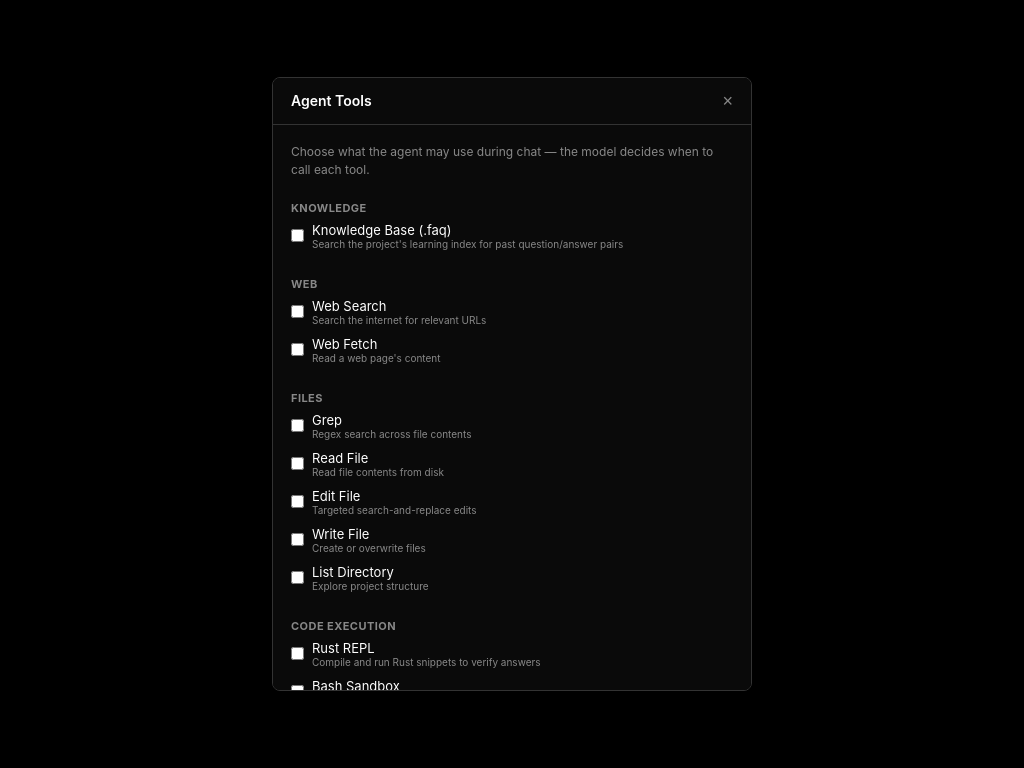
it: ToolsPanel › shows web search provider radio buttons when web_search is enabled
This screenshot has width=1024, height=768.
# Enable web_search first
Click the checkbox labelled "Web Search Search the internet for relevant URLs". click: (298, 312)
box: [291,305,304,318]
(page scrolled)
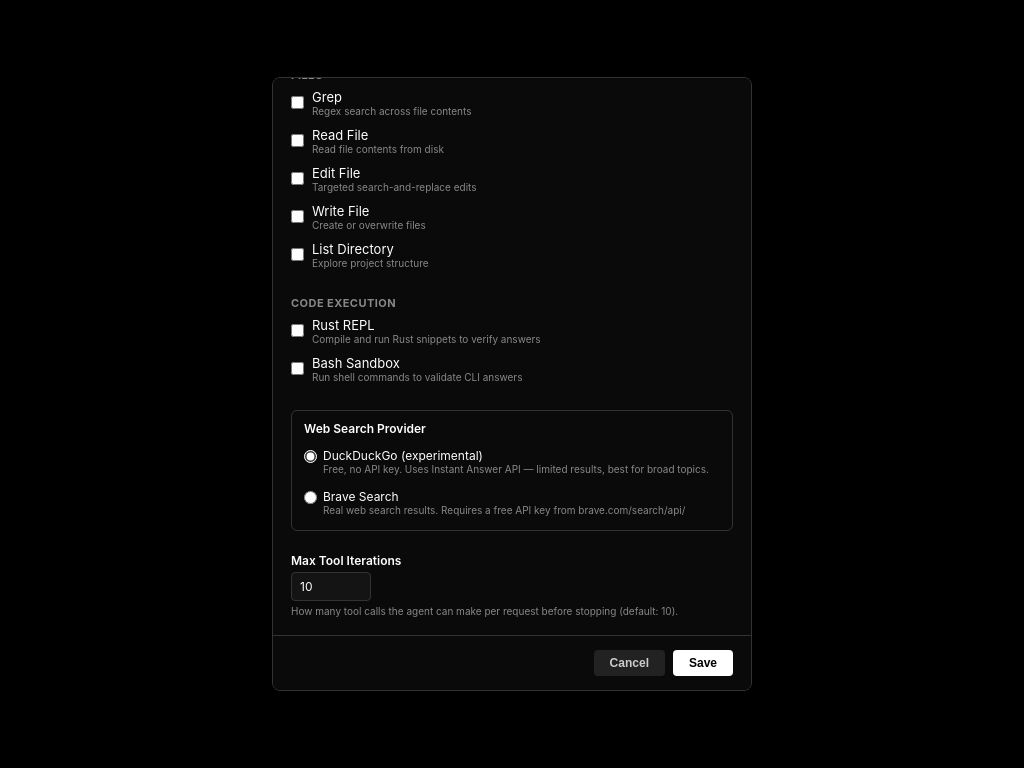
Expected: the text "DuckDuckGo (experimental)" is shown, [323,448,483,463]
Expected: the text "Brave Search" is shown, [323,489,399,504]
